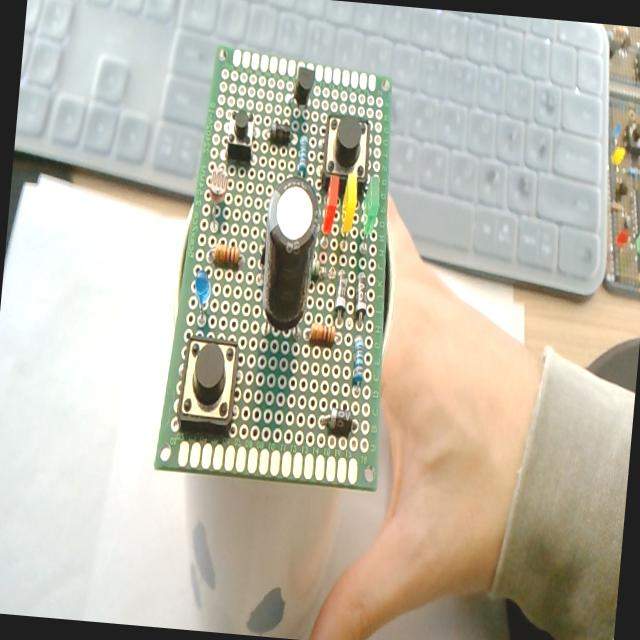Electrolytic capacitor: (252, 176, 322, 342)
cds: (202, 166, 230, 227)
diode: (317, 402, 355, 438), (354, 271, 369, 318), (334, 270, 349, 316), (268, 120, 290, 145)
led: (336, 170, 360, 258), (358, 173, 384, 245), (316, 171, 340, 241), (190, 266, 213, 325)
resistor: (349, 336, 366, 384), (212, 241, 240, 268), (308, 322, 336, 346), (295, 133, 310, 176), (306, 261, 329, 281)
switch: (176, 333, 240, 436), (318, 110, 372, 196), (226, 108, 256, 162)
transistor: (293, 65, 315, 105)
